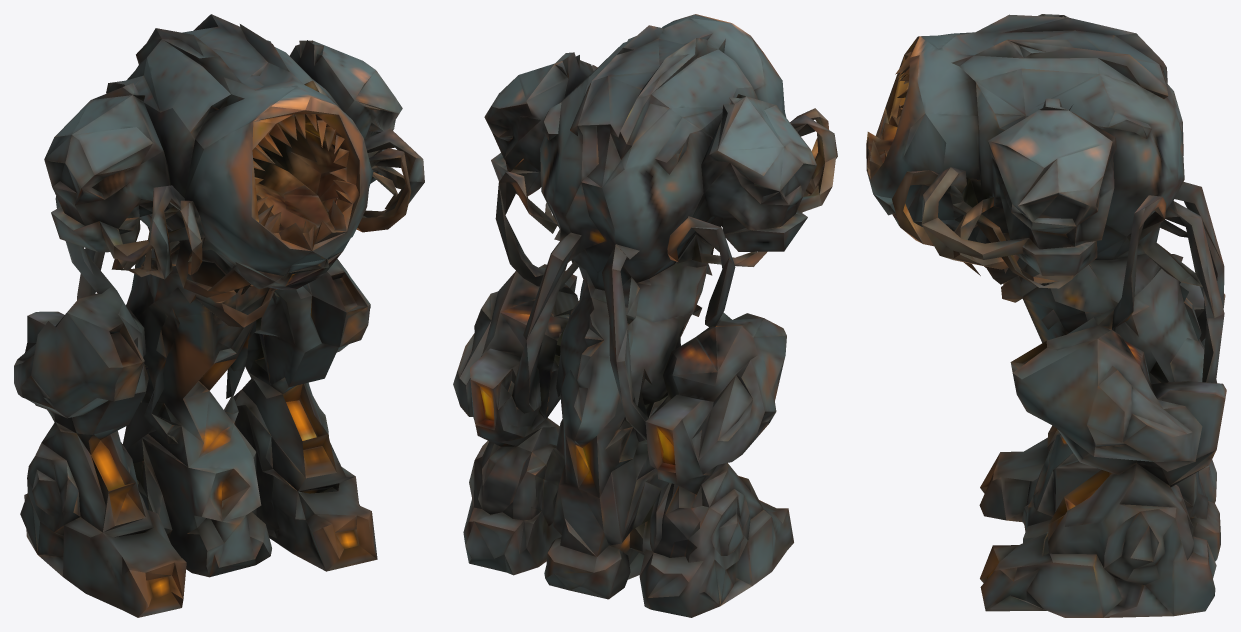
The model's file is boss_cm_salvage.glb.
3 views of the same model, side by side, from view 1: azimuth 30°, elevation 25°; view 2: azimuth 150°, elevation 25°; view 3: azimuth 270°, elevation 25° (orthographic). The views are drawn at different scales.
Size of the model in its own units: 1.21 by 1.9 by 1.18.
1 material, 1 textured.
